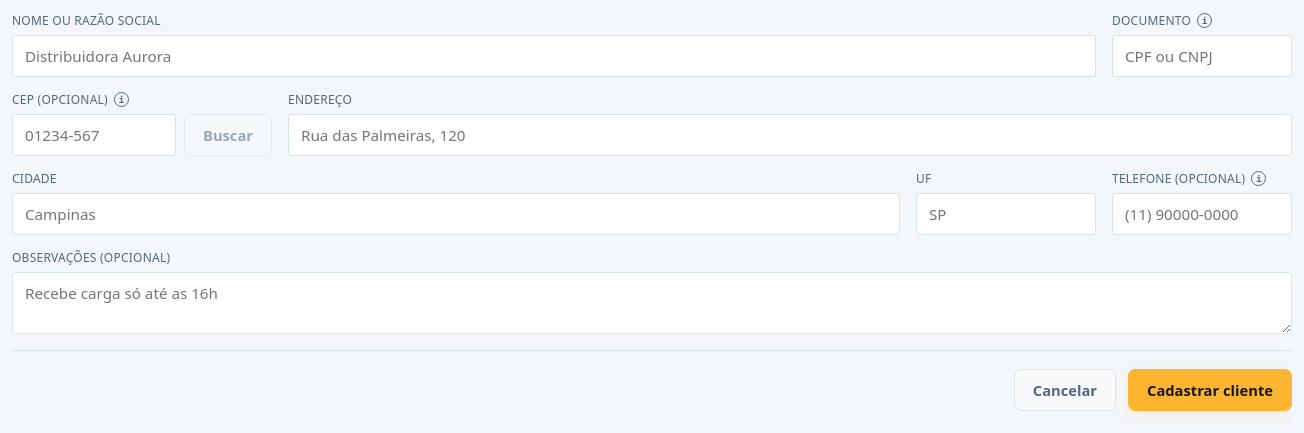
Test: CustomerForm › aplica a máscara enquanto o documento é digitado
Type "12345678901" into the field labelled "DOCUMENTO" at (1202, 56), box [1112,35,1292,77]
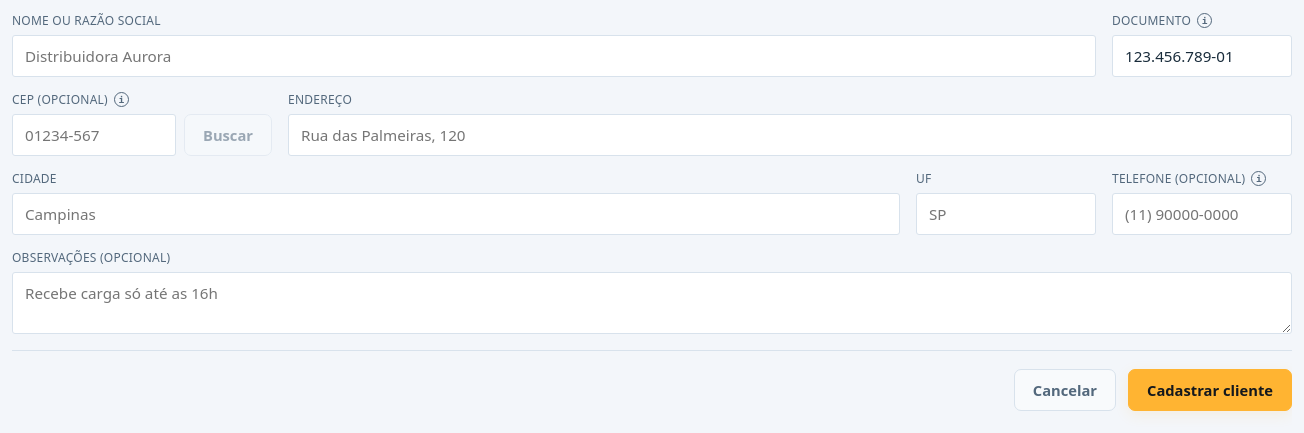
Expected: the field labelled "DOCUMENTO" holds "123.456.789-01"
Replace the text in the field labelled "DOCUMENTO" with "12345678000199" at (1202, 56), box [1112,35,1292,77]
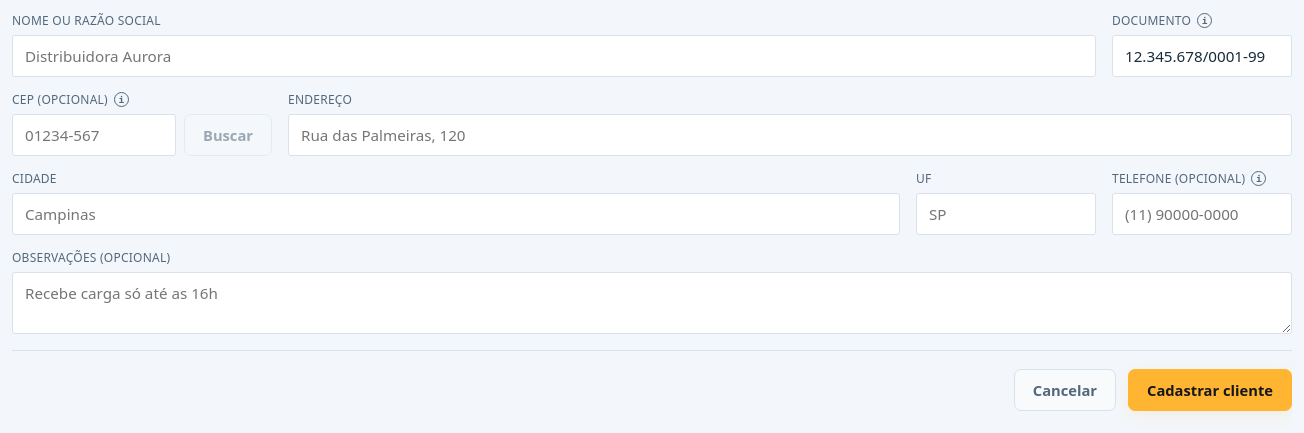
Expected: the field labelled "DOCUMENTO" holds "12.345.678/0001-99", [1112,35,1292,77]
